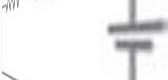Battery: (104, 13, 165, 56)
